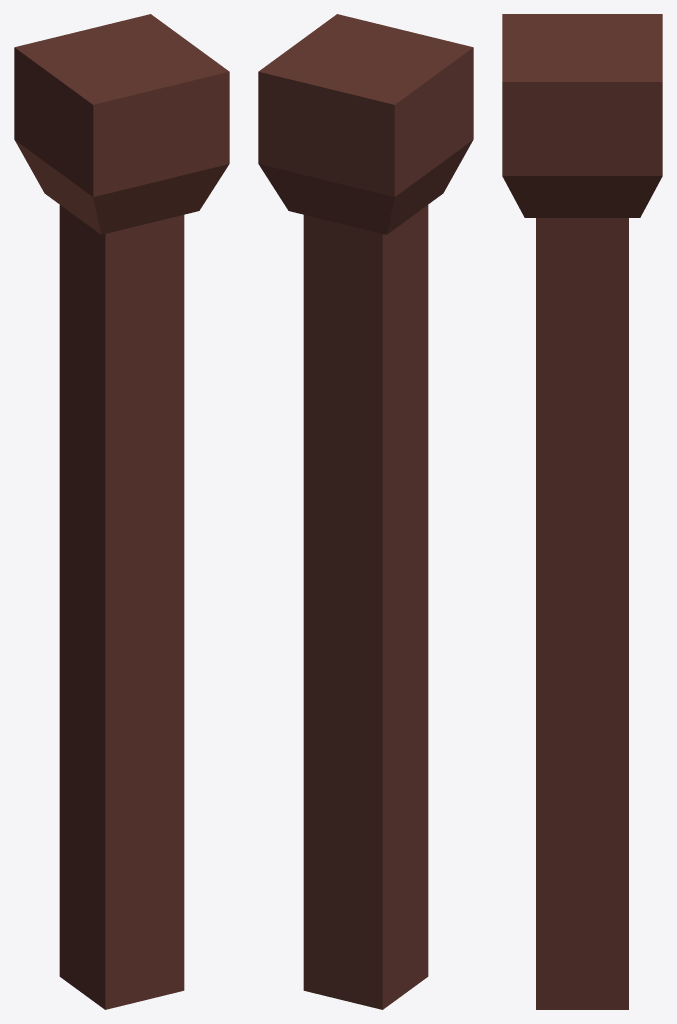
Rendered from dark_handle.fbx.
3 views of the same model, side by side, from view 1: azimuth 30°, elevation 25°; view 2: azimuth 150°, elevation 25°; view 3: azimuth 270°, elevation 25° (orthographic).
Parts seen in each view (by area): view 1: Cube.004; view 2: Cube.004; view 3: Cube.004.
Boxes of the visible parts, box(x1,y1,x2,y2) form: Cube.004: box(14, 14, 229, 1009); Cube.004: box(258, 14, 473, 1009); Cube.004: box(502, 14, 662, 1009).
Size of the model in its own units: 7.01 by 45.4 by 7.01.
